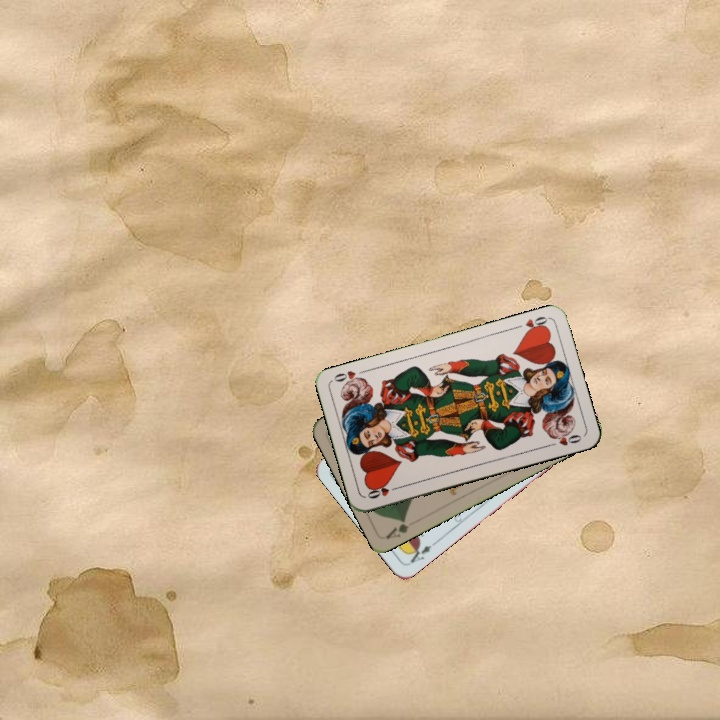EA: (404, 540, 434, 567)
GA: (382, 515, 411, 541)
HO: (511, 312, 550, 336), (363, 481, 403, 501)
